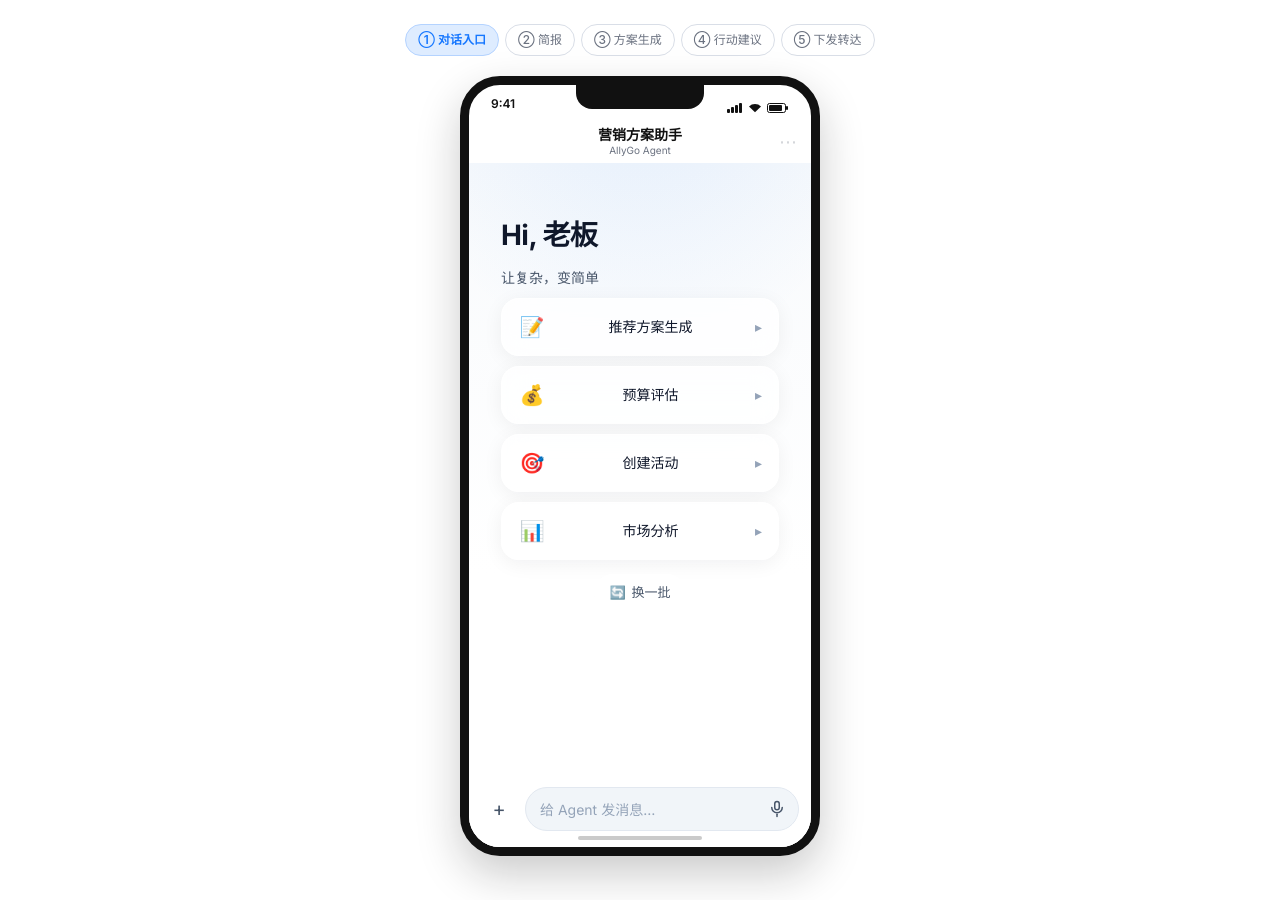
it: Mobile chat UI redesign › 点击 + 号展开底部面板
Click the button named "展开菜单". click: click(499, 809)
box: [481, 791, 517, 827]
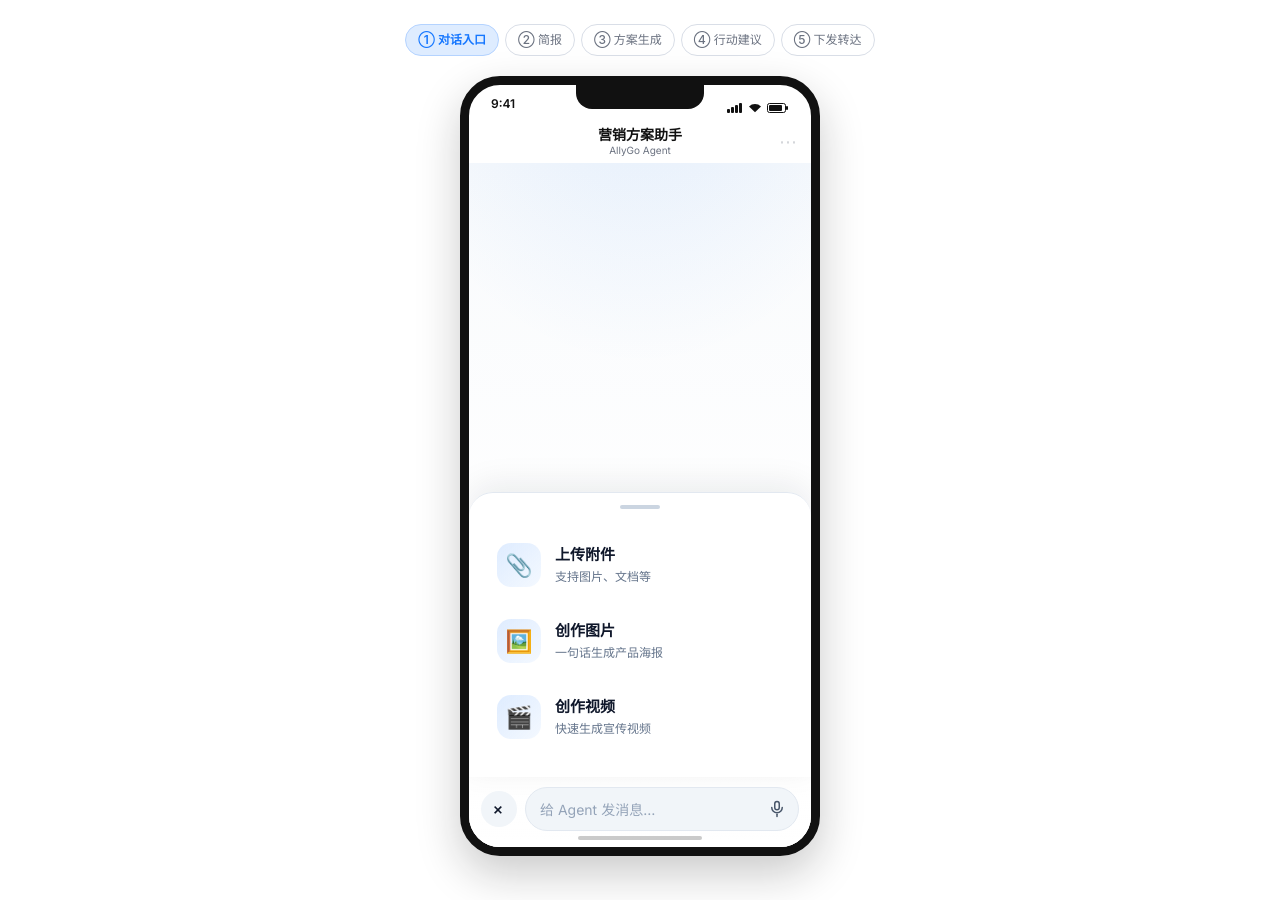
Now the text "上传附件" is shown, box [555, 545, 615, 564]
Now the text "创作图片" is shown, box [555, 621, 615, 640]
Now the text "创作视频" is shown, box [555, 697, 615, 716]
